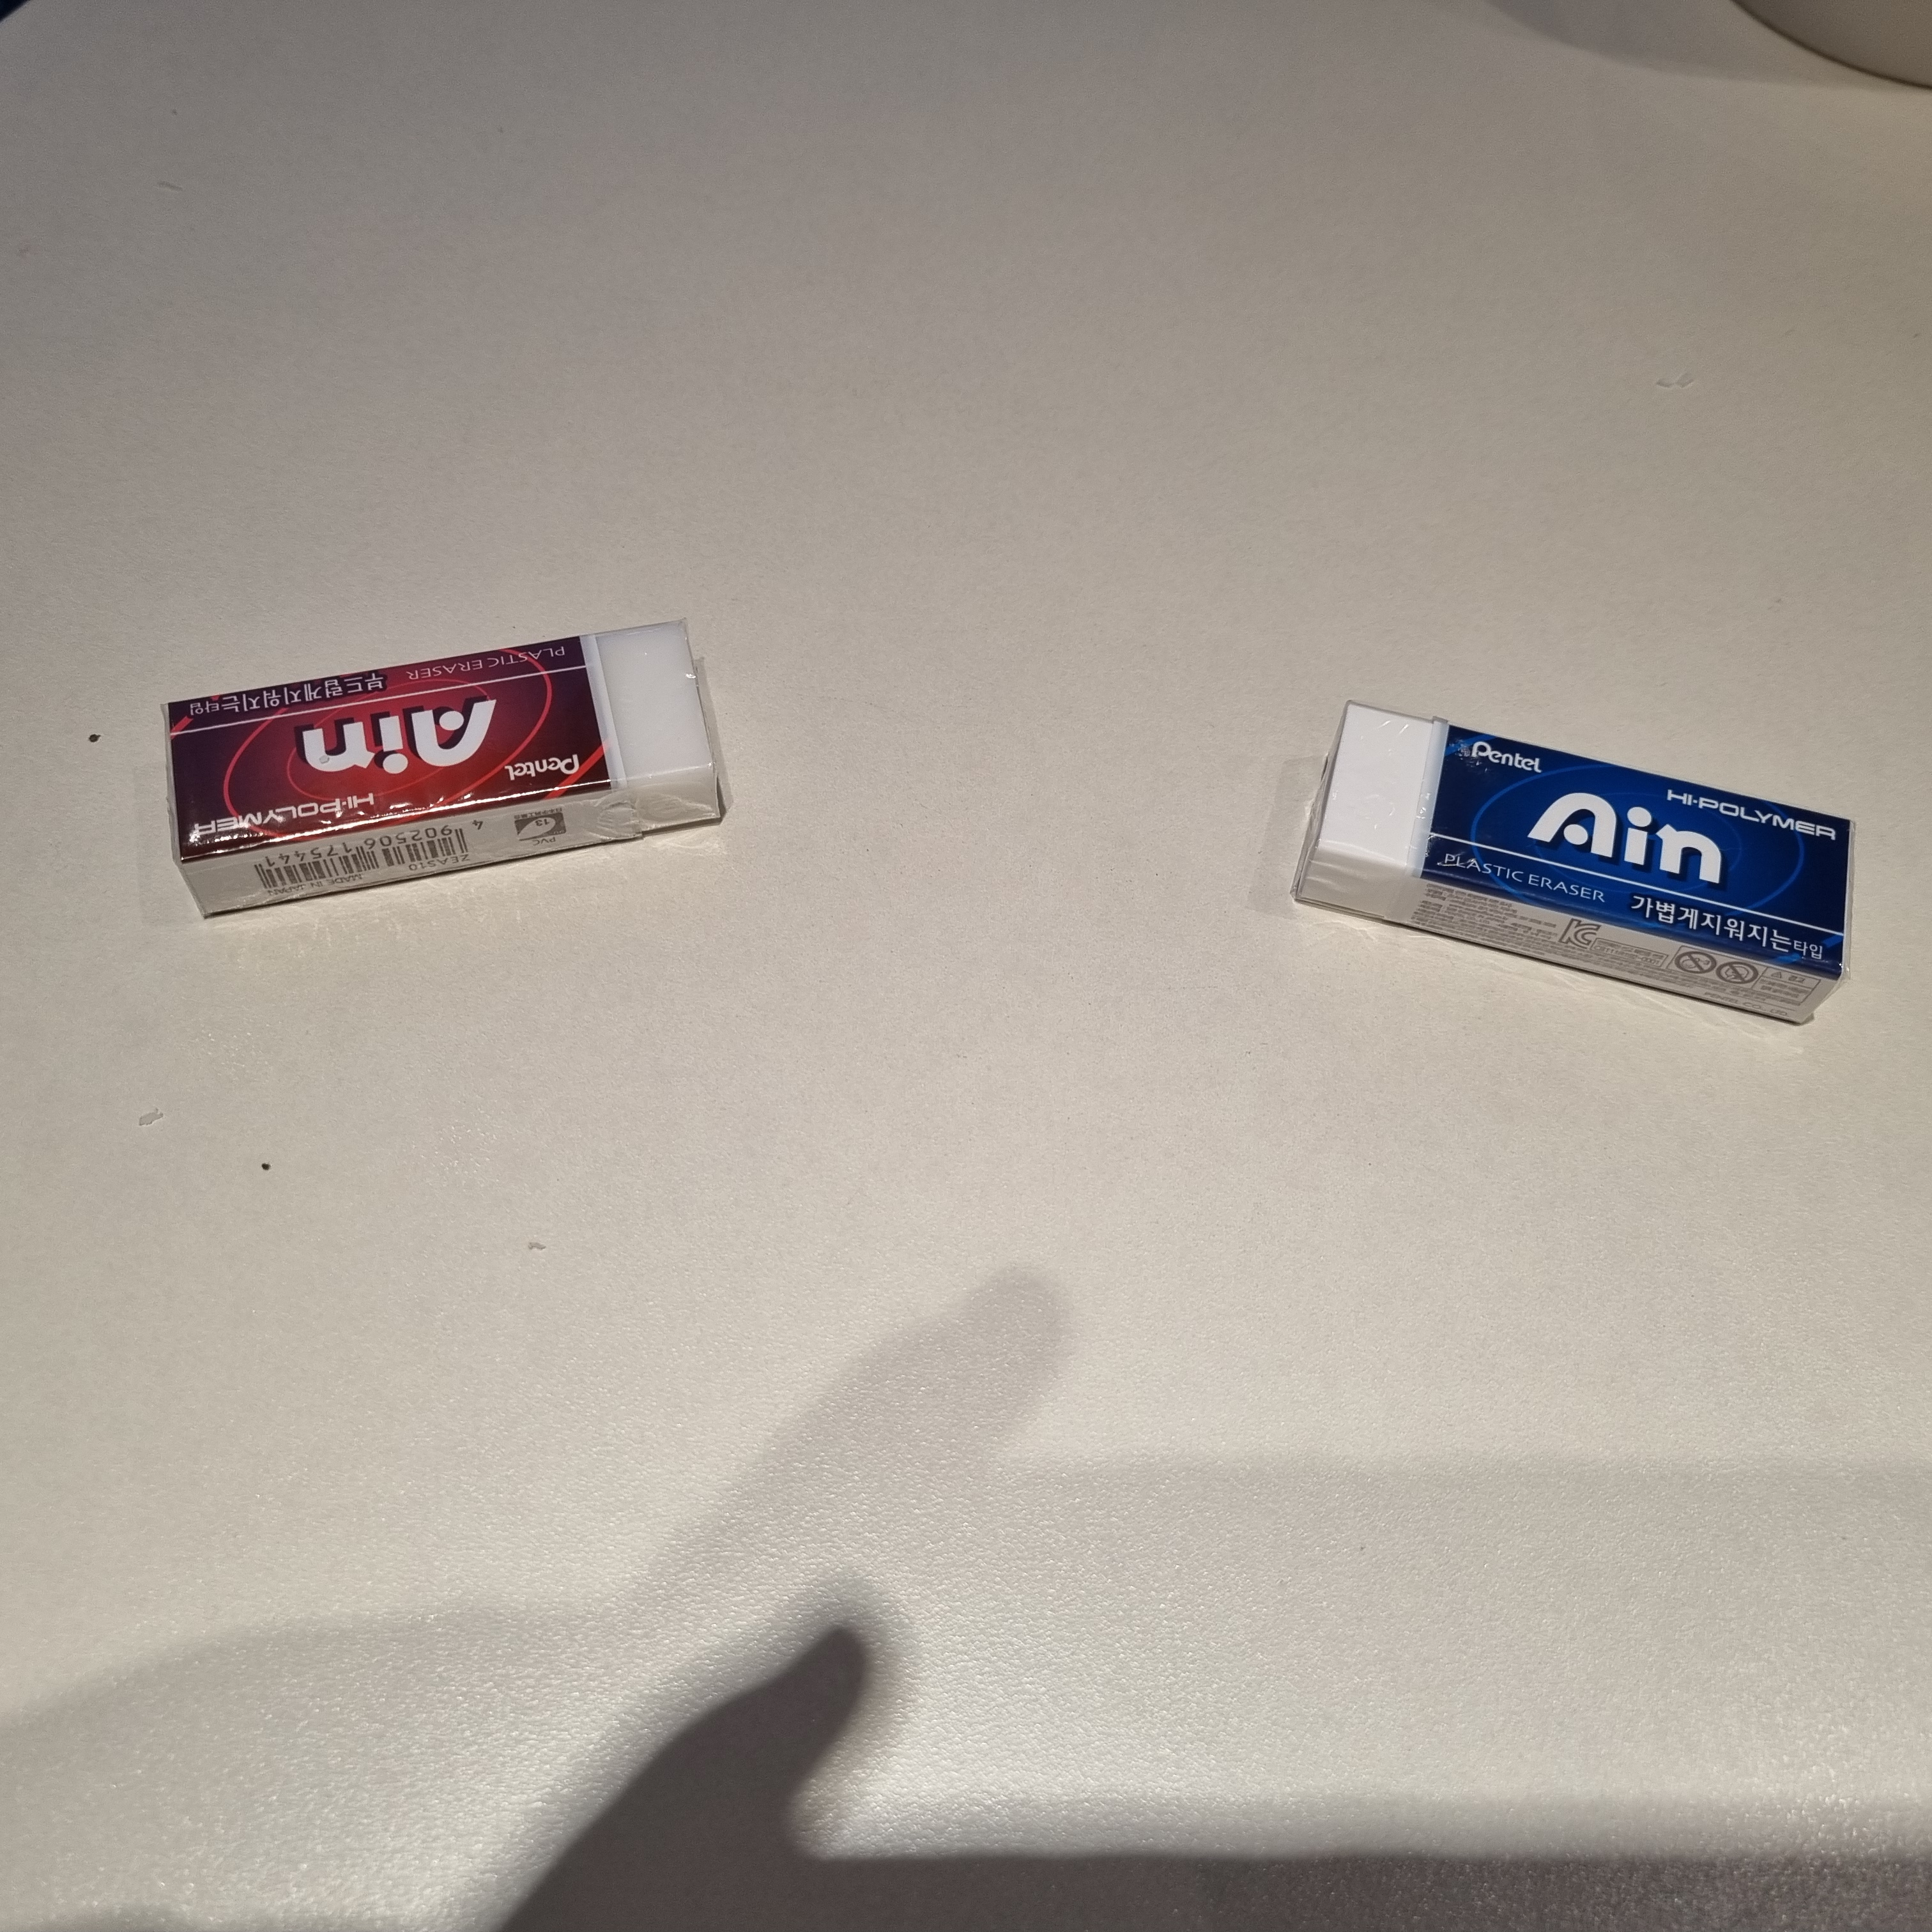blue: (1281, 681, 1867, 1047)
red: (138, 605, 740, 938)
